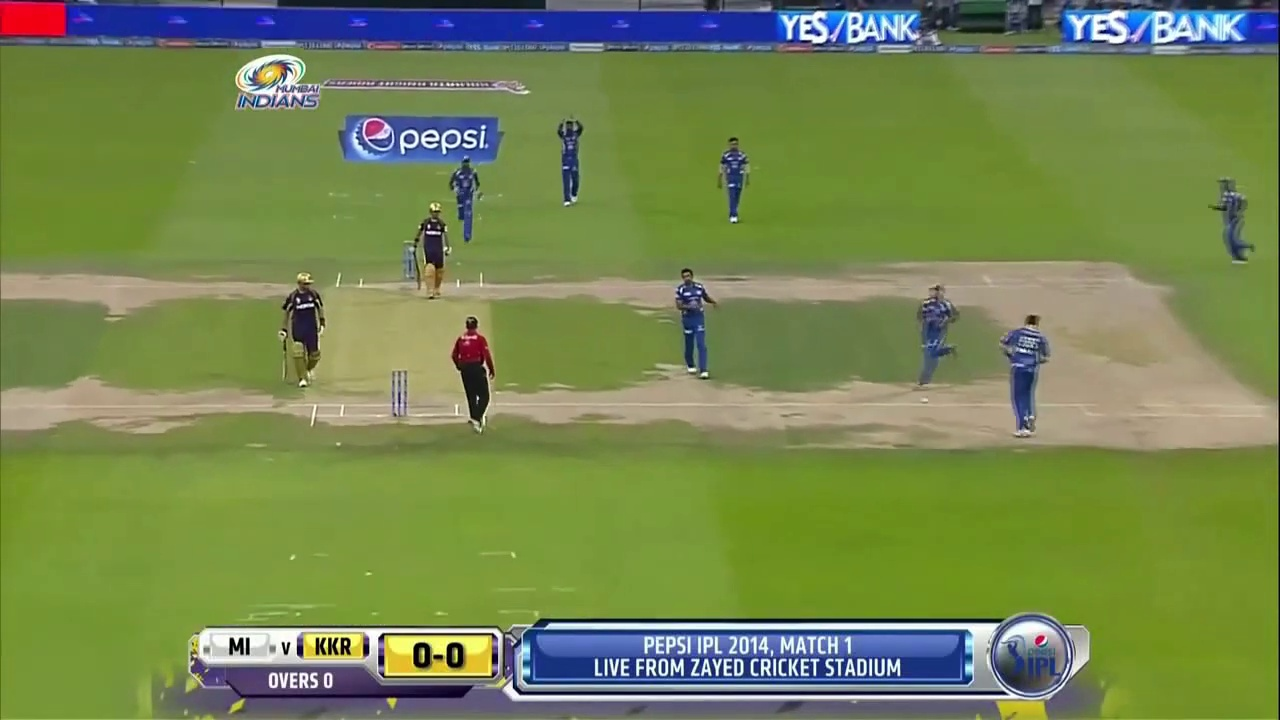bat: (282, 344, 288, 380)
stumps: (390, 367, 408, 419)
